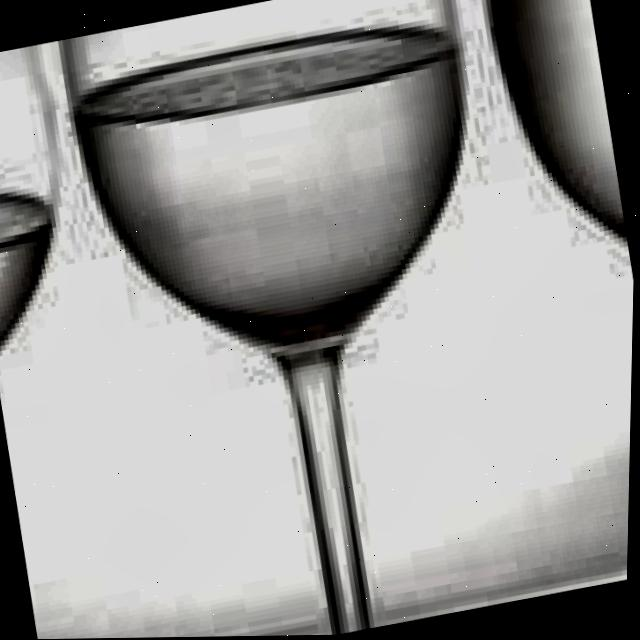glass: (62, 0, 468, 636)
